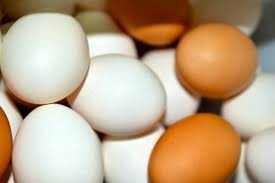eggs: (68, 53, 171, 131), (5, 13, 86, 93), (17, 99, 78, 183)
